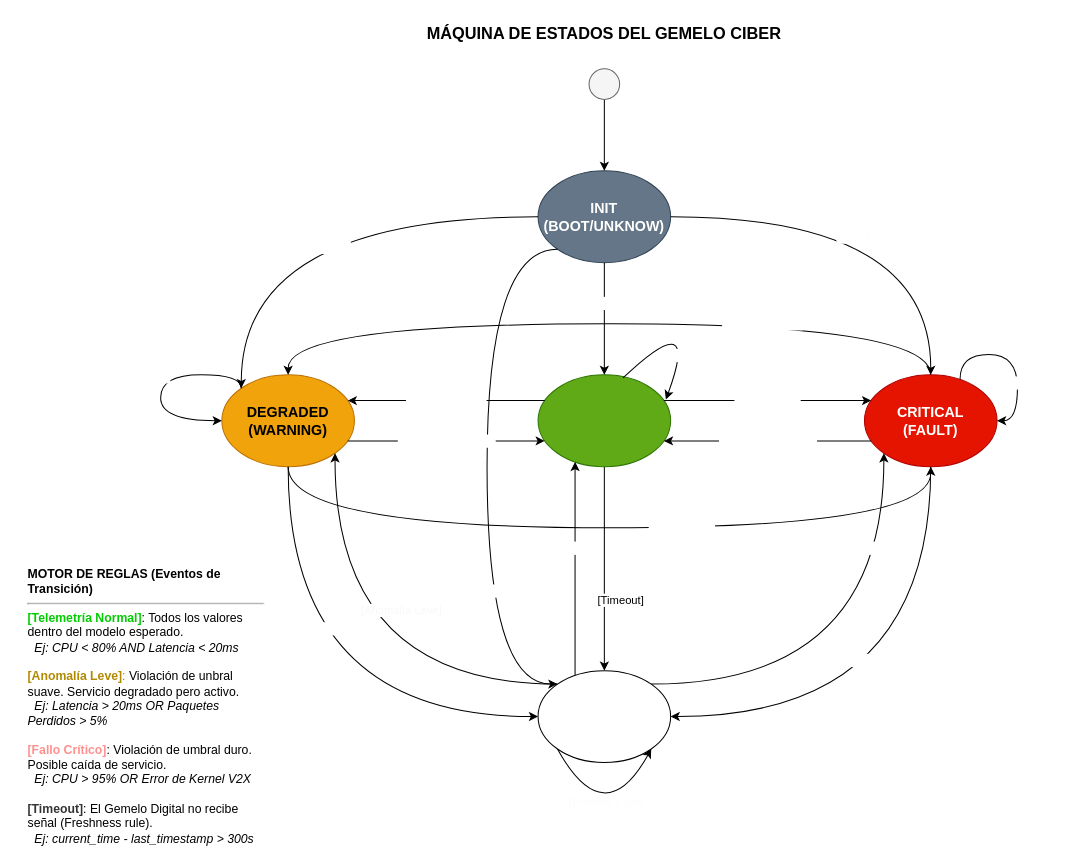
Some shapes in this 1073 by 868 pixel diagram are drawn without their labels. The shapes that lost their labels are listed below. From the top down, each one's centre as x and y in pixels, then its label:
At point (604, 420): "HEALTHY (OK)".
At point (604, 716): "OFFLINE (STALE)".
